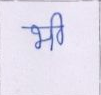i_matra: (52, 11, 65, 45)
